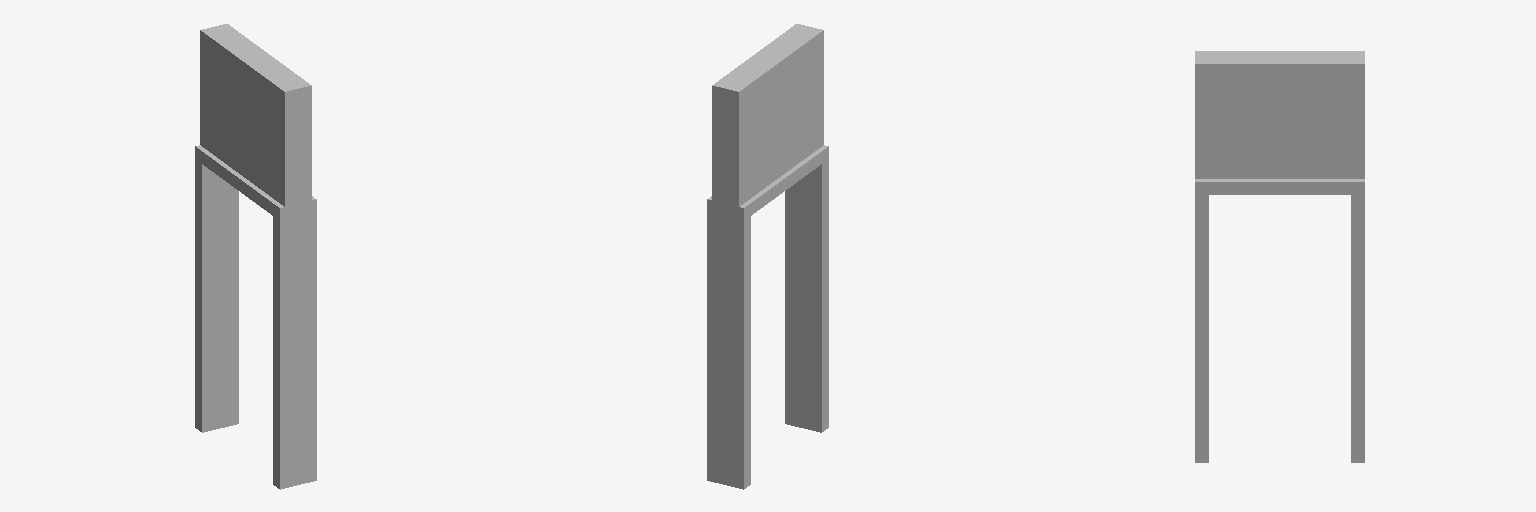
File: doorway.obj
3 renders of one model, left to right at view 1: azimuth 30°, elevation 25°; view 2: azimuth 150°, elevation 25°; view 3: azimuth 270°, elevation 25°, orthographic.
Parts seen in each view (by area): view 1: Box03, Duplicate02, Duplicate00, Box02; view 2: Box03, Duplicate00, Duplicate02, Box02; view 3: Box03, Duplicate02, Duplicate00, Box02.
Boxes of the visible parts, box(x1,y1,x2,y2) form: Box03: box(200, 24, 311, 206); Duplicate02: box(273, 212, 316, 489); Duplicate00: box(195, 159, 238, 432); Box02: box(195, 145, 316, 220); Box03: box(712, 24, 823, 206); Duplicate00: box(707, 212, 750, 489); Duplicate02: box(785, 159, 828, 432); Box02: box(707, 145, 828, 220); Box03: box(1195, 51, 1364, 178); Duplicate02: box(1195, 195, 1208, 462); Duplicate00: box(1351, 195, 1364, 462); Box02: box(1195, 179, 1364, 194).
Size of the model in its own units: 0.3 by 3.1 by 1.2.